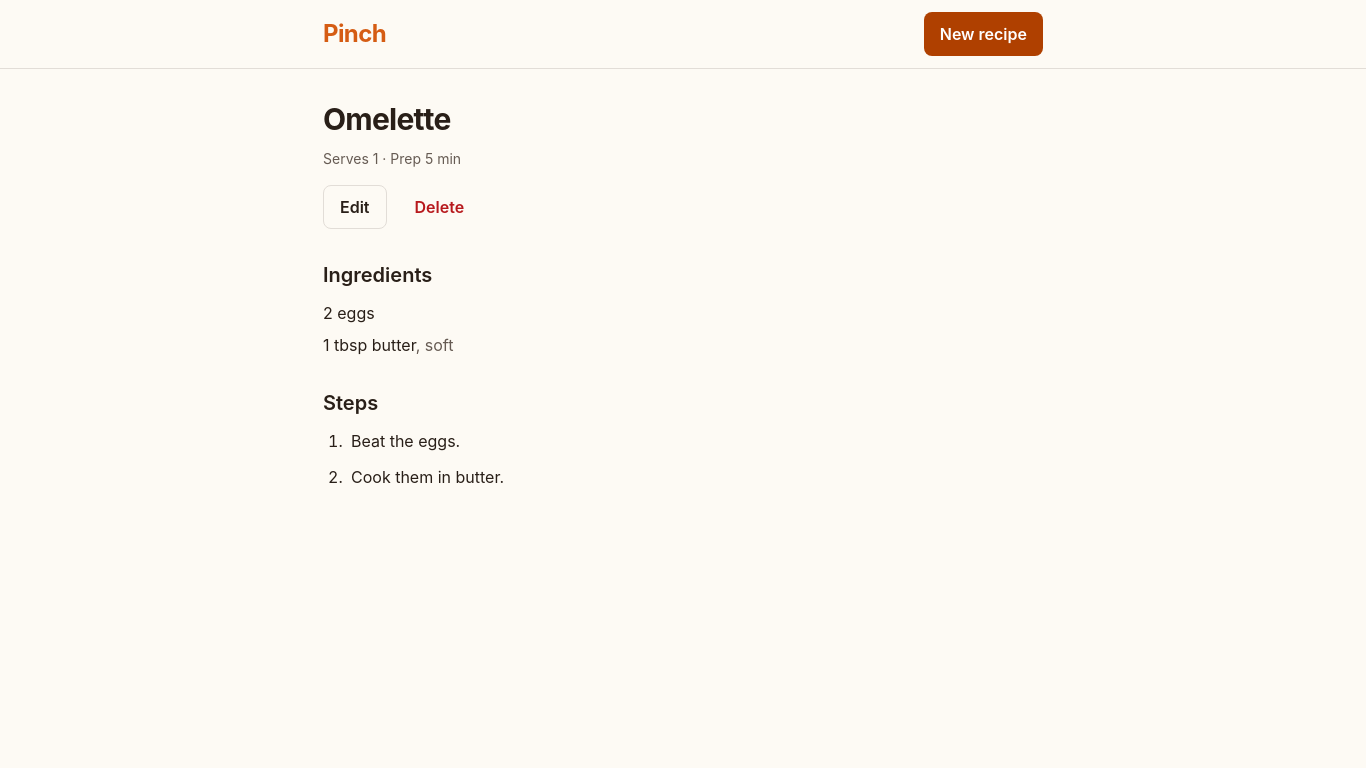
Test: Keep it closes the question without deleting
Click the button "Delete".
click(439, 207)  # box left=398, top=185, right=480, bottom=229
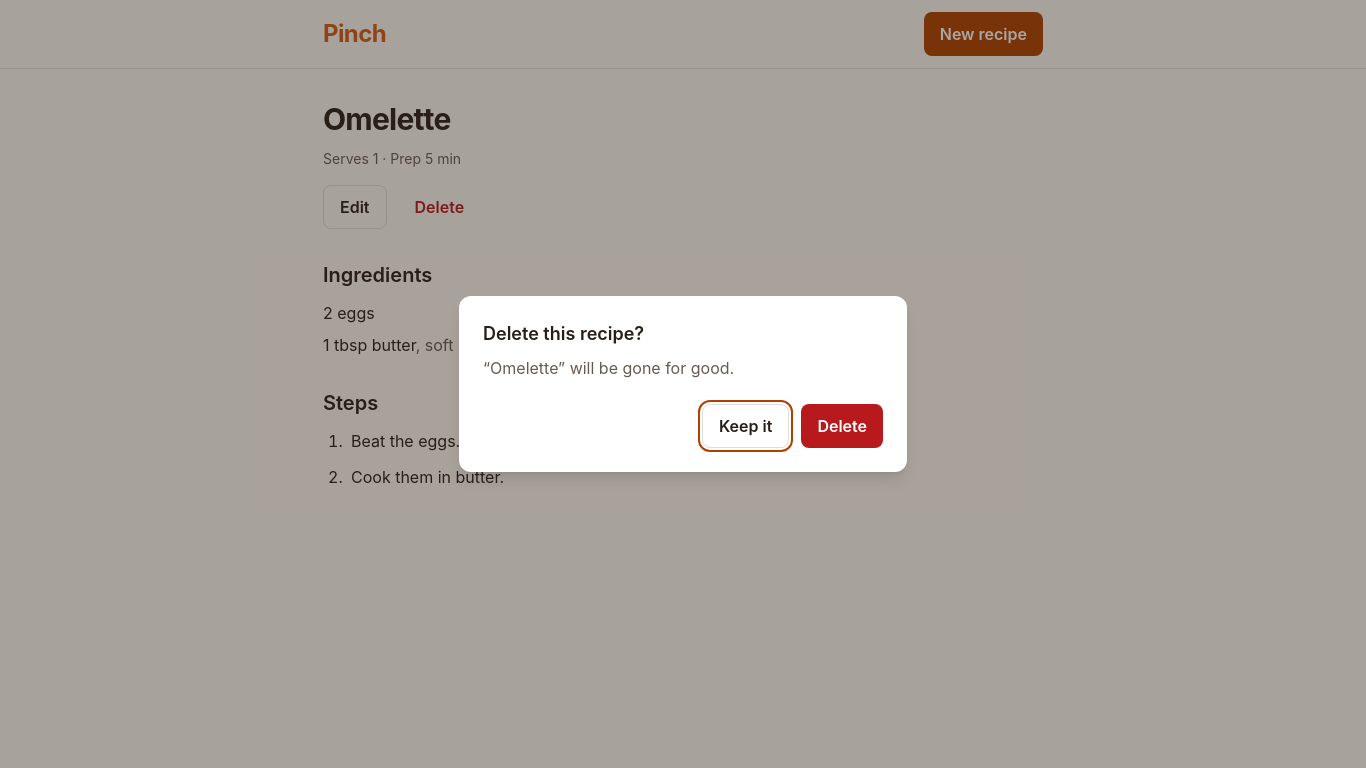
Click the button "Keep it".
click(746, 426)  # box left=702, top=404, right=789, bottom=448
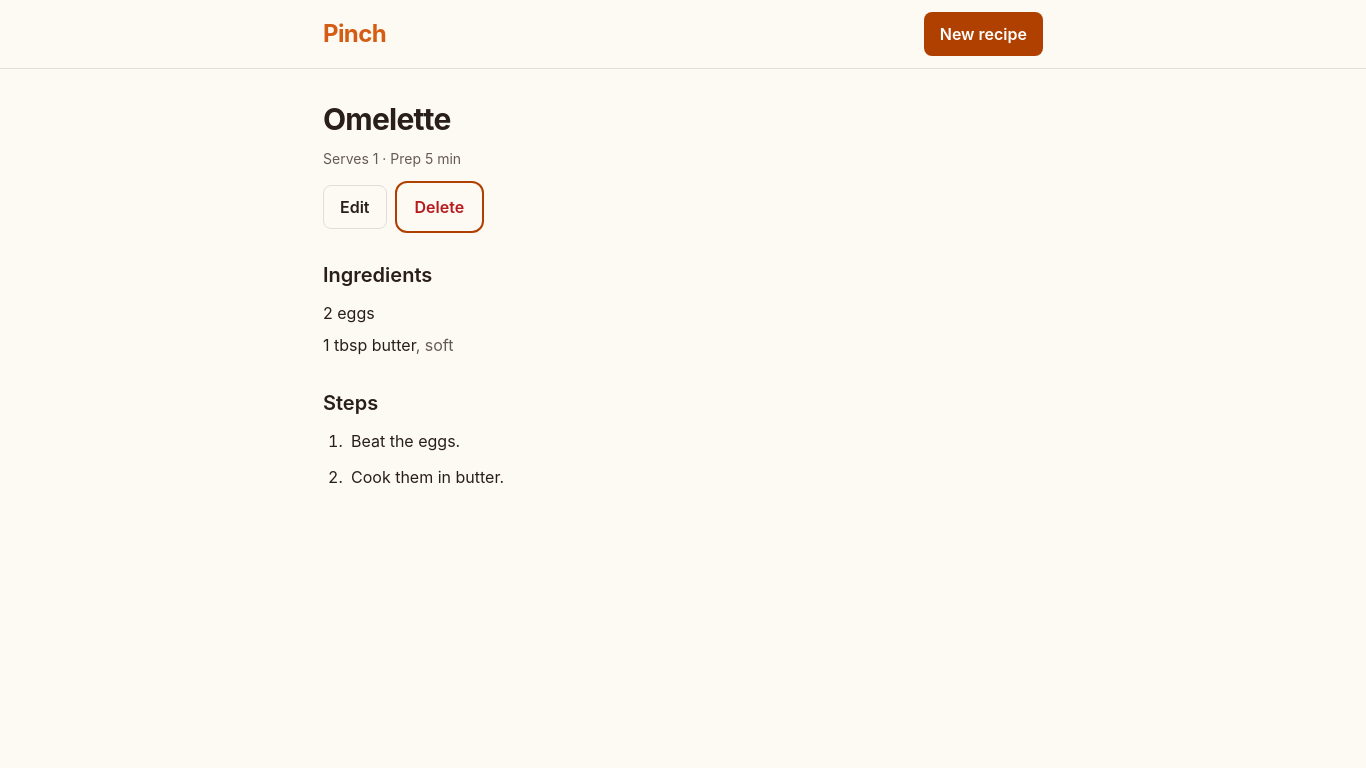
Expected: the dialog is gone
